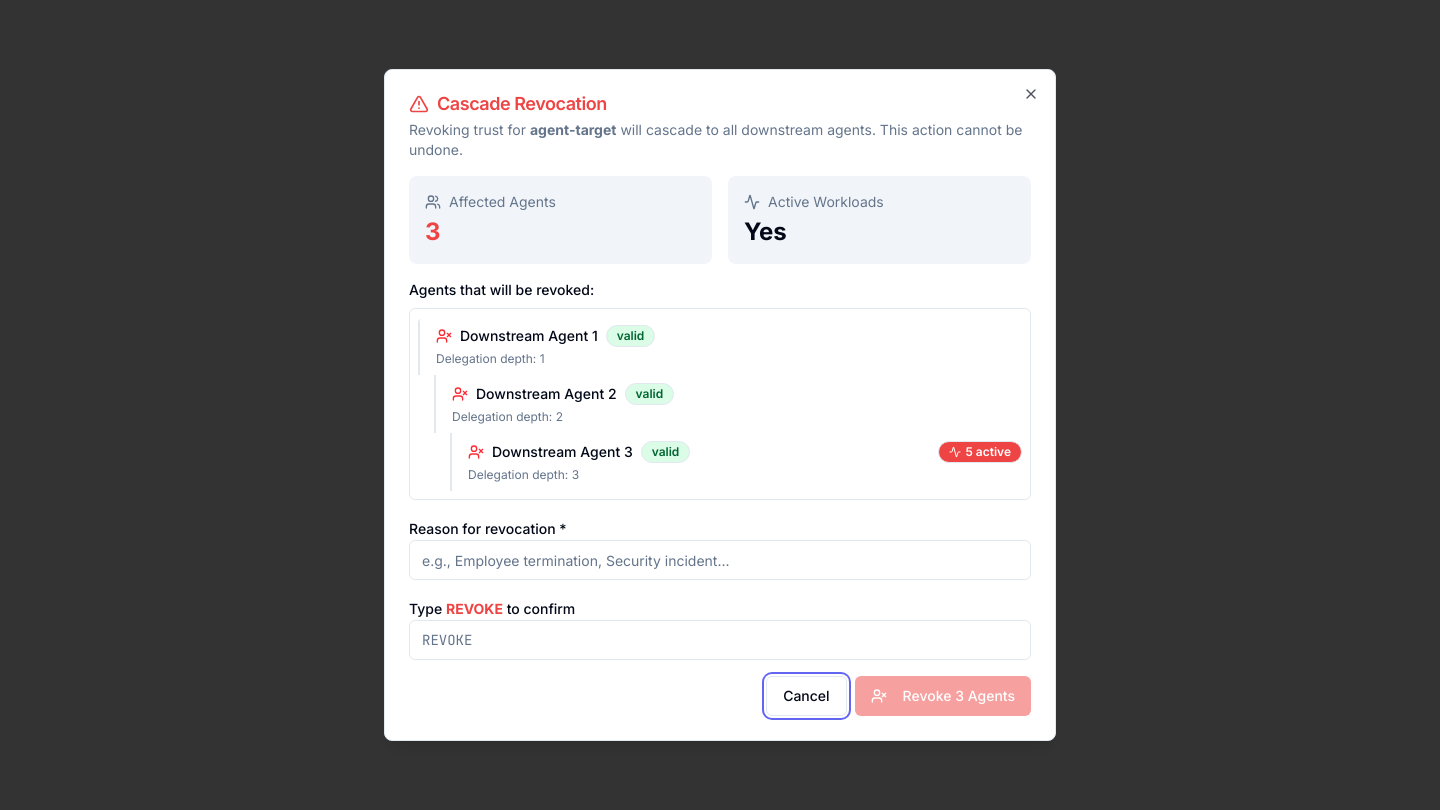
Test: CascadeRevocationModal › Intent: Revocation confirmation requires exact REVOKE text to prevent accidents › enables confirm button when user types exactly 'REVOKE'
expect the text "Affected Agents" is shown: met, box x1=449 y1=192 x2=556 y2=212
Type "Security incident" into the field with placeholder "e.g., Employee termination, Security incident..." at [720, 560], box x1=409 y1=540 x2=1031 y2=580
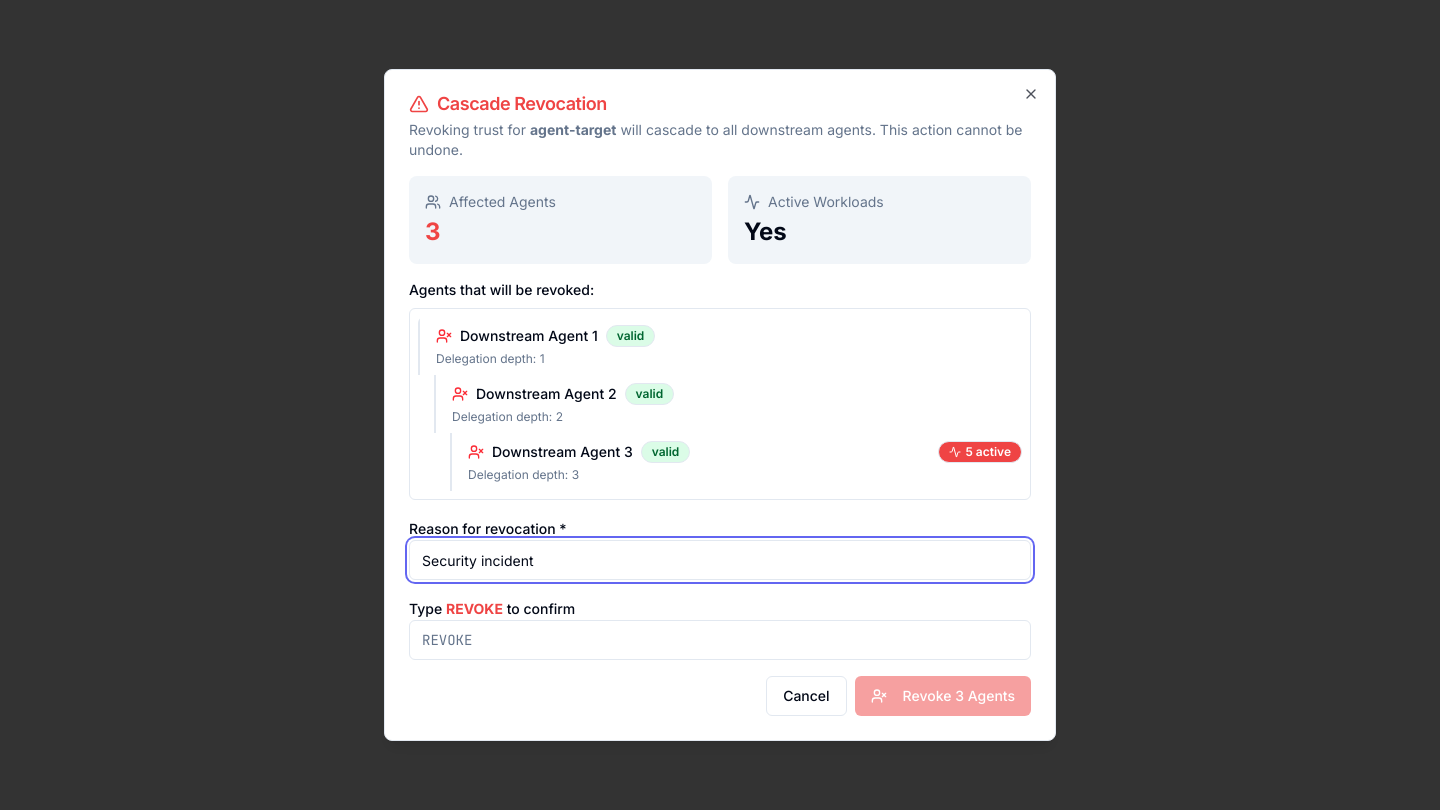
Type REVOKE
Type "revoke" into the field with placeholder "REVOKE" at [720, 640], box x1=409 y1=620 x2=1031 y2=660
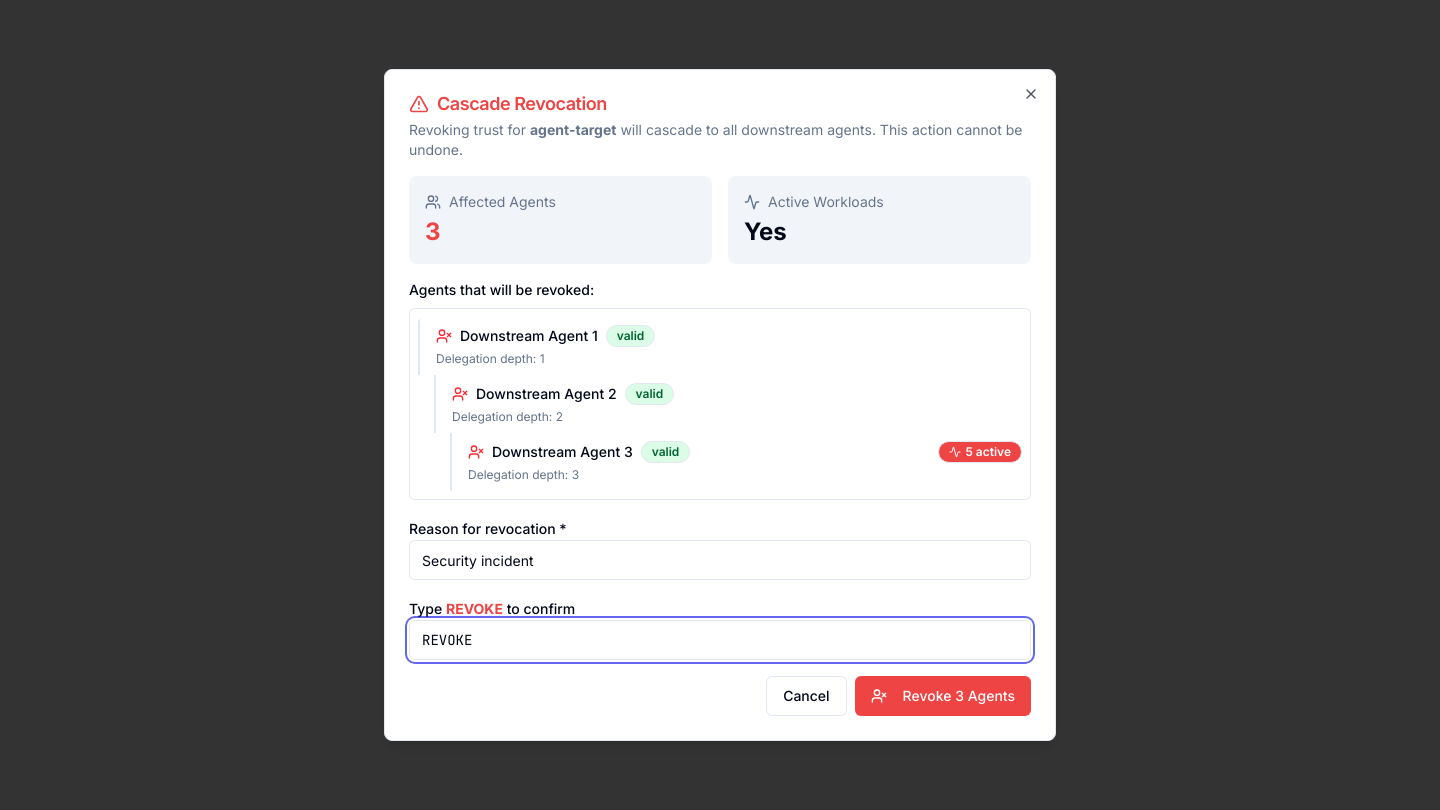
expect the button "Revoke 3 Agents" is enabled: met, box x1=855 y1=676 x2=1031 y2=716
